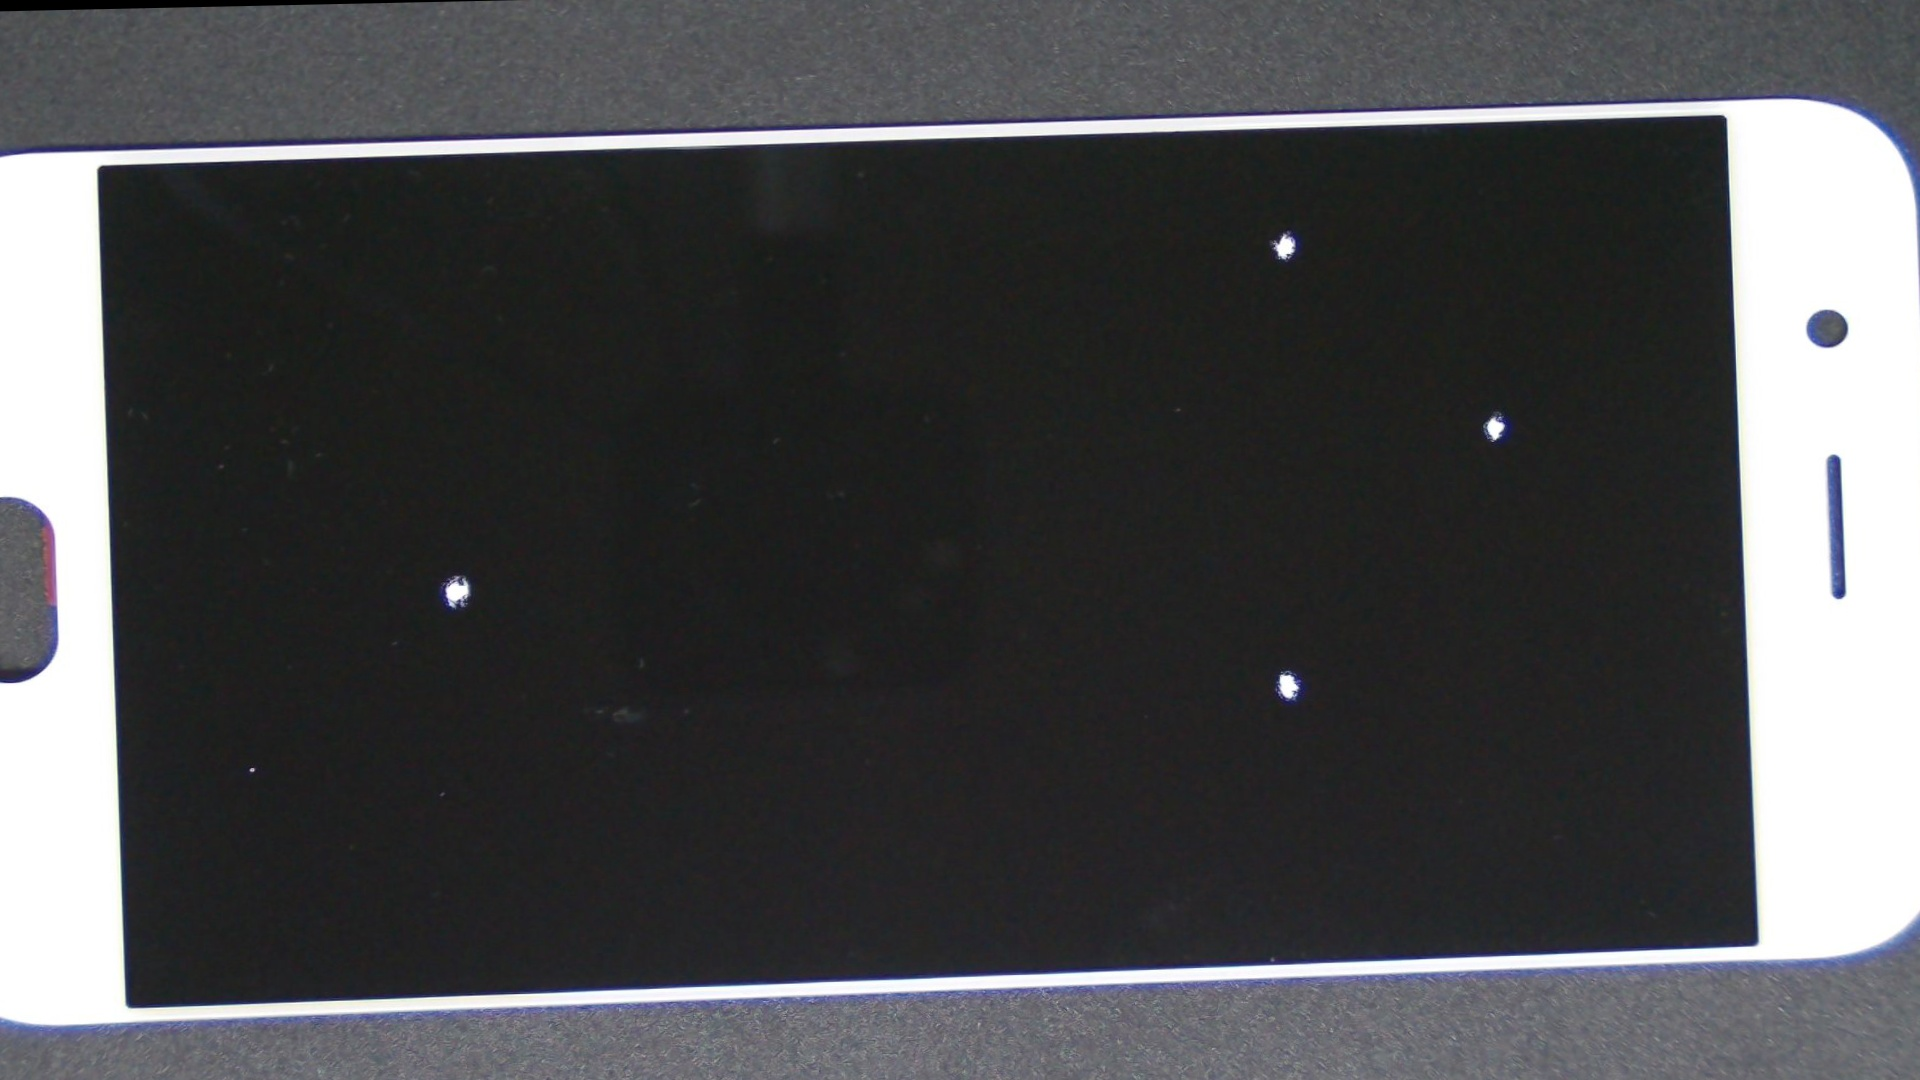oil: (553, 310, 1920, 1027), (657, 182, 1920, 642), (554, 90, 1920, 368), (136, 281, 764, 868)
